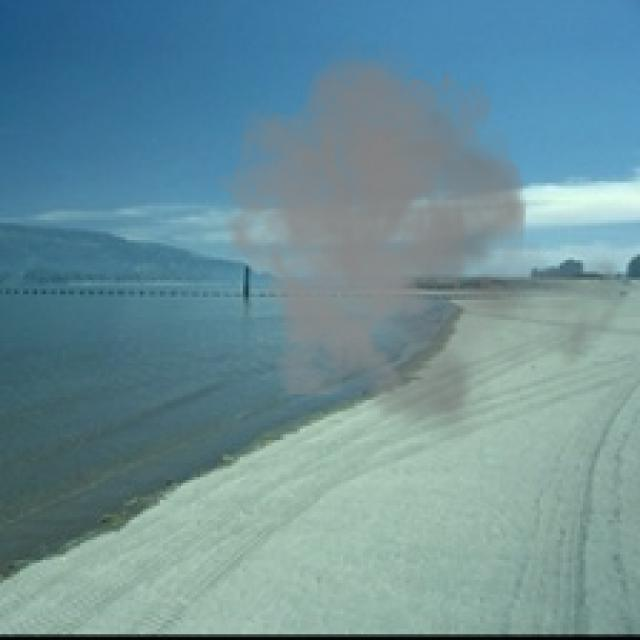smoke: (214, 28, 637, 446)
